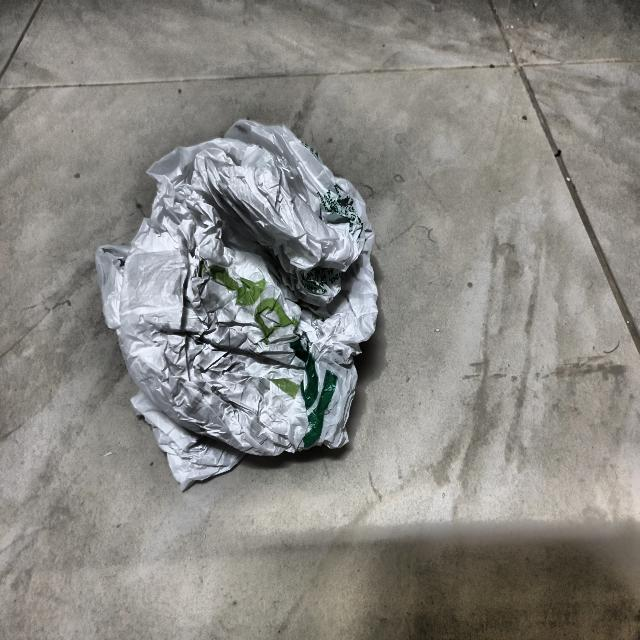plastic bag: (91, 106, 388, 517)
